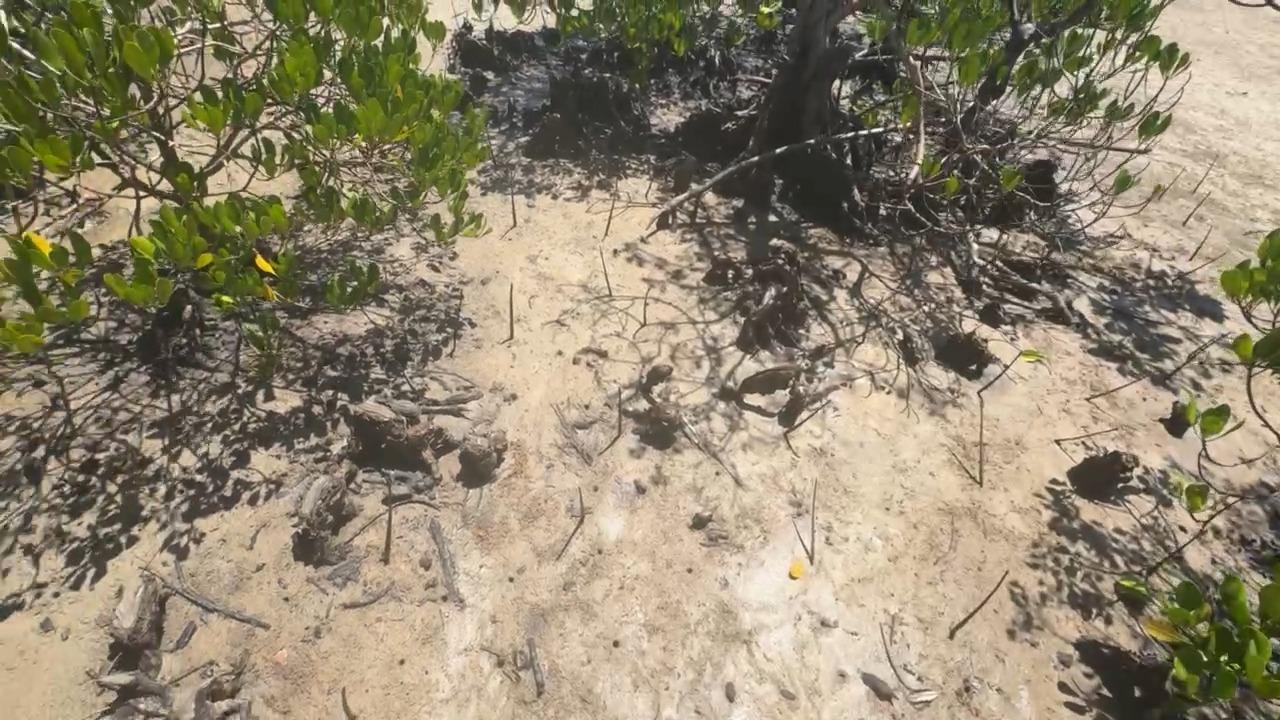Tree: (950, 570, 1009, 638), (1148, 530, 1208, 575), (976, 351, 1022, 394), (1084, 372, 1148, 401), (784, 399, 831, 434), (1182, 191, 1212, 227), (1192, 155, 1218, 193), (1189, 225, 1213, 263), (1055, 428, 1119, 442), (450, 289, 463, 355), (1158, 168, 1185, 199), (383, 479, 392, 564), (599, 247, 612, 295), (605, 182, 617, 234), (811, 477, 818, 564), (342, 687, 357, 720), (979, 400, 984, 487), (511, 171, 517, 227), (618, 386, 623, 436), (578, 487, 585, 520), (509, 283, 513, 339), (645, 179, 654, 197)
